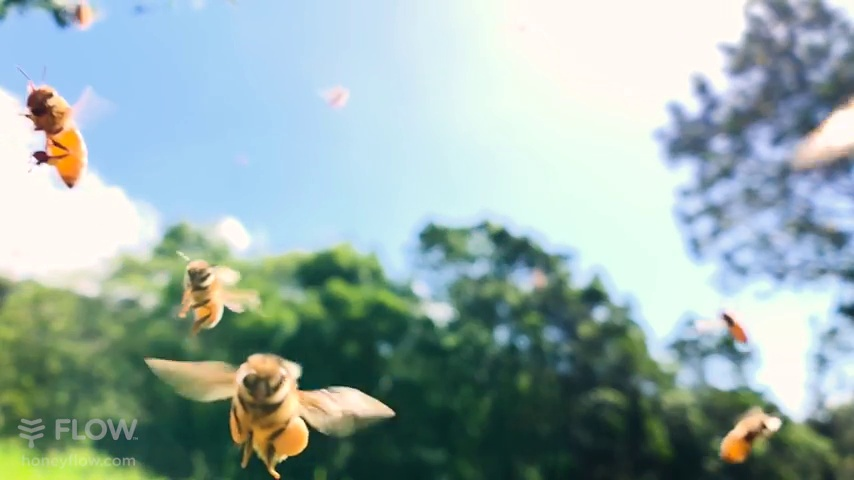insect: (144, 352, 397, 480), (20, 72, 98, 198), (172, 249, 252, 339), (715, 406, 777, 468)
